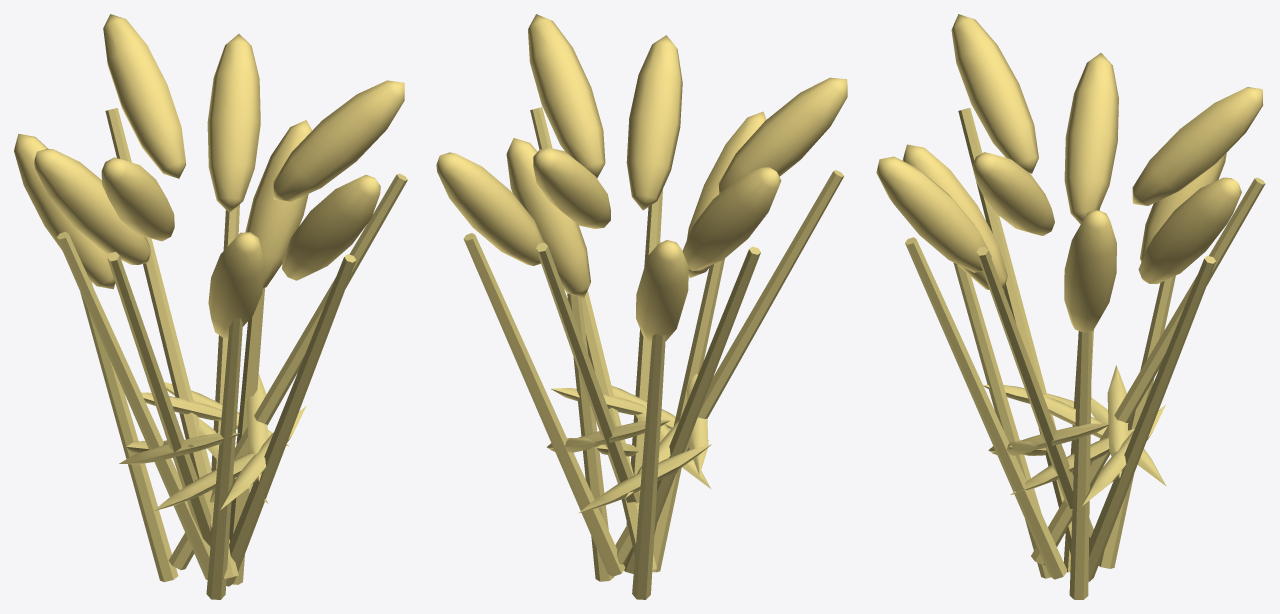
File: OW_Crop_Wheat.fbx
3 renders of one model, left to right at view 1: azimuth 30°, elevation 25°; view 2: azimuth 150°, elevation 25°; view 3: azimuth 270°, elevation 25°, orthographic. The views are drawn at different scales.
Visible parts, largest first — view 1: OW_Crop_Wheat; view 2: OW_Crop_Wheat; view 3: OW_Crop_Wheat.
Part boxes in pixels (box(x1,y1,x2,y2)): OW_Crop_Wheat: box(14, 14, 407, 599); OW_Crop_Wheat: box(436, 14, 847, 599); OW_Crop_Wheat: box(876, 14, 1265, 599).
Bounding box in the file's own units: 56.26 × 87.67 × 62.48.
